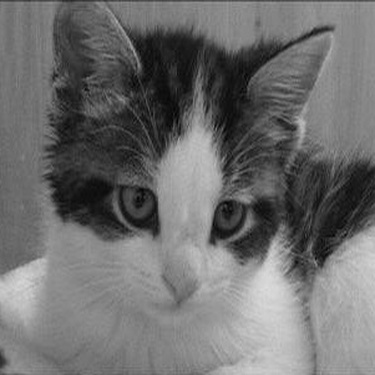cat: (1, 5, 353, 359)
